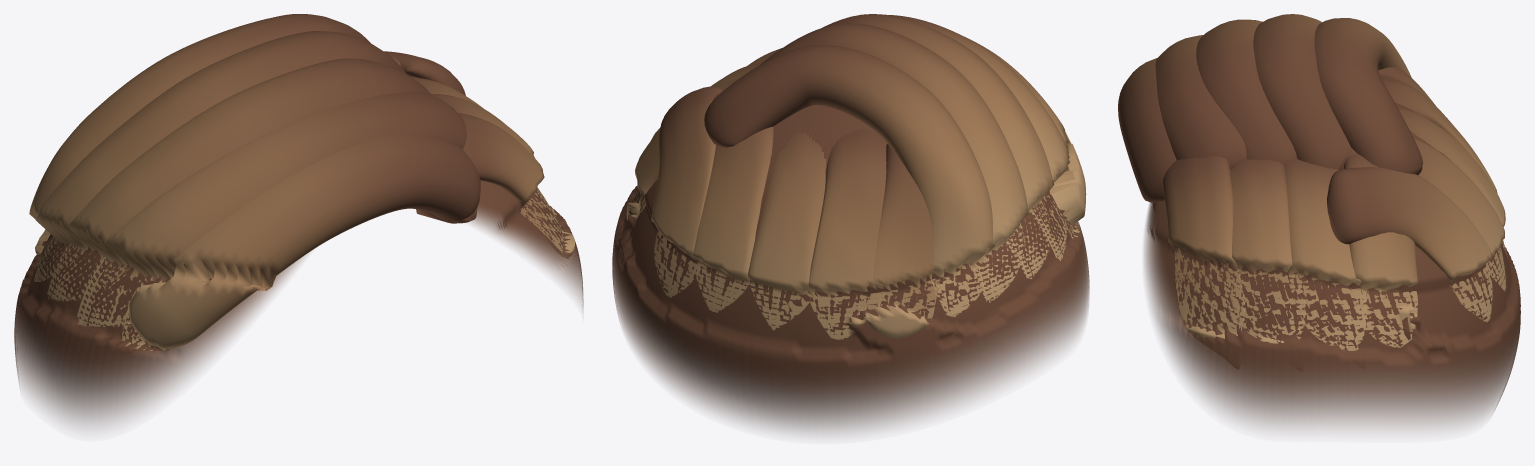
File: Ombre-253605f3c624253-hair.glb
3 views of the same model, side by side, from view 1: azimuth 30°, elevation 25°; view 2: azimuth 150°, elevation 25°; view 3: azimuth 270°, elevation 25° (orthographic). The views are drawn at different scales.
Parts seen in each view (by area): view 1: 226 hair / Hair252 / sculpted locks.001, 226 hair / Hair252 / gentle tonal variation.001, 226 hair / Hair252 / restored153 fade coverage.001; view 2: 226 hair / Hair252 / sculpted locks.001, 226 hair / Hair252 / restored153 fade coverage.001, 226 hair / Hair252 / gentle tonal variation.001; view 3: 226 hair / Hair252 / sculpted locks.001, 226 hair / Hair252 / restored153 fade coverage.001, 226 hair / Hair252 / gentle tonal variation.001.
Boxes of the visible parts, x1,y1,x2,y2 form: 226 hair / Hair252 / sculpted locks.001: [29, 14, 556, 327]; 226 hair / Hair252 / gentle tonal variation.001: [121, 113, 574, 350]; 226 hair / Hair252 / restored153 fade coverage.001: [14, 180, 583, 426]; 226 hair / Hair252 / sculpted locks.001: [626, 14, 1078, 338]; 226 hair / Hair252 / restored153 fade coverage.001: [612, 105, 1089, 434]; 226 hair / Hair252 / gentle tonal variation.001: [747, 36, 1086, 339]; 226 hair / Hair252 / sculpted locks.001: [1155, 14, 1507, 350]; 226 hair / Hair252 / restored153 fade coverage.001: [1144, 101, 1520, 429]; 226 hair / Hair252 / gentle tonal variation.001: [1118, 58, 1497, 338].
Bounding box in the file's own units: 0.976 × 0.7527 × 0.7562.
Materials: 3 (3 with a texture image).
